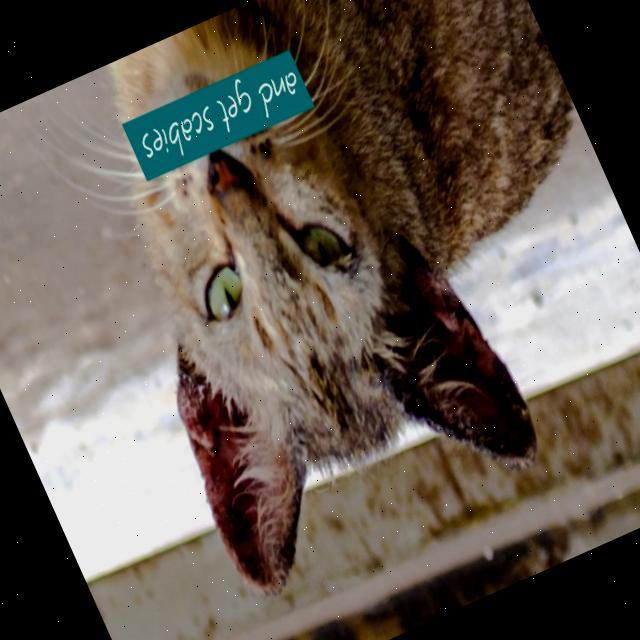cat-scabies: (176, 384, 312, 566), (381, 284, 524, 456)
